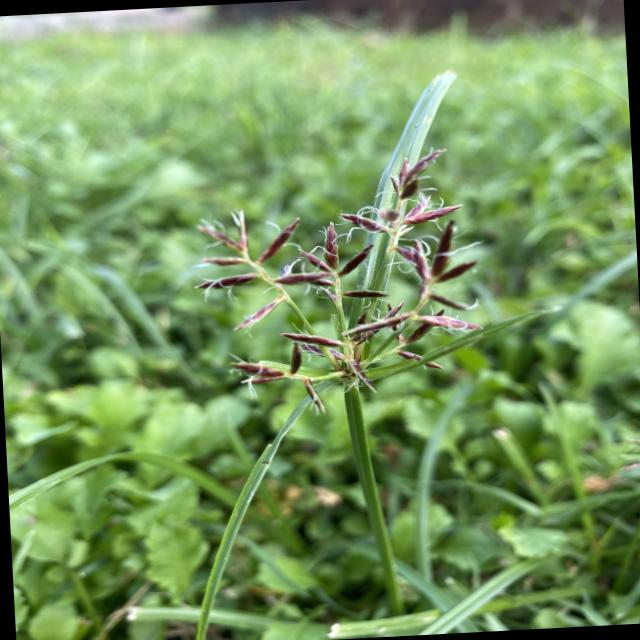cyperus: (175, 145, 501, 402)
